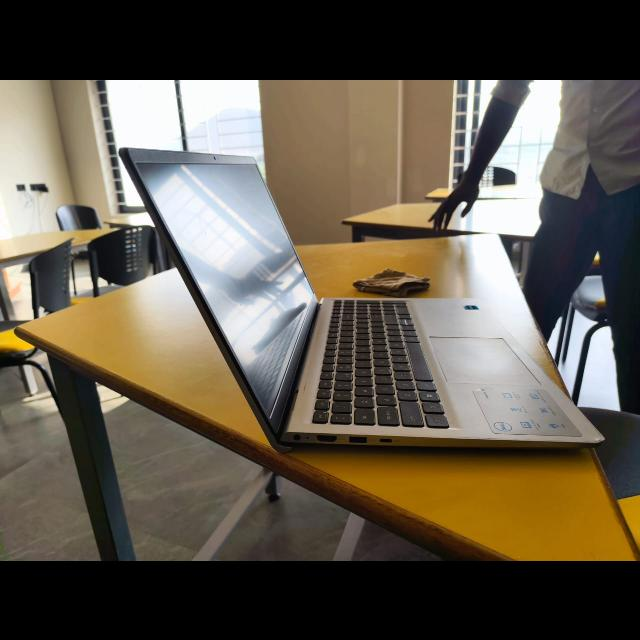laptop: (119, 142, 572, 470)
